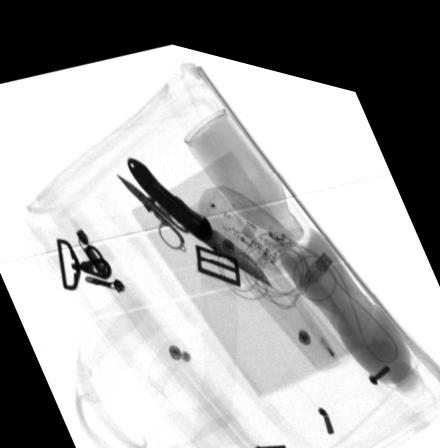Knife: (124, 150, 271, 269)
Scissors: (113, 167, 190, 241)
